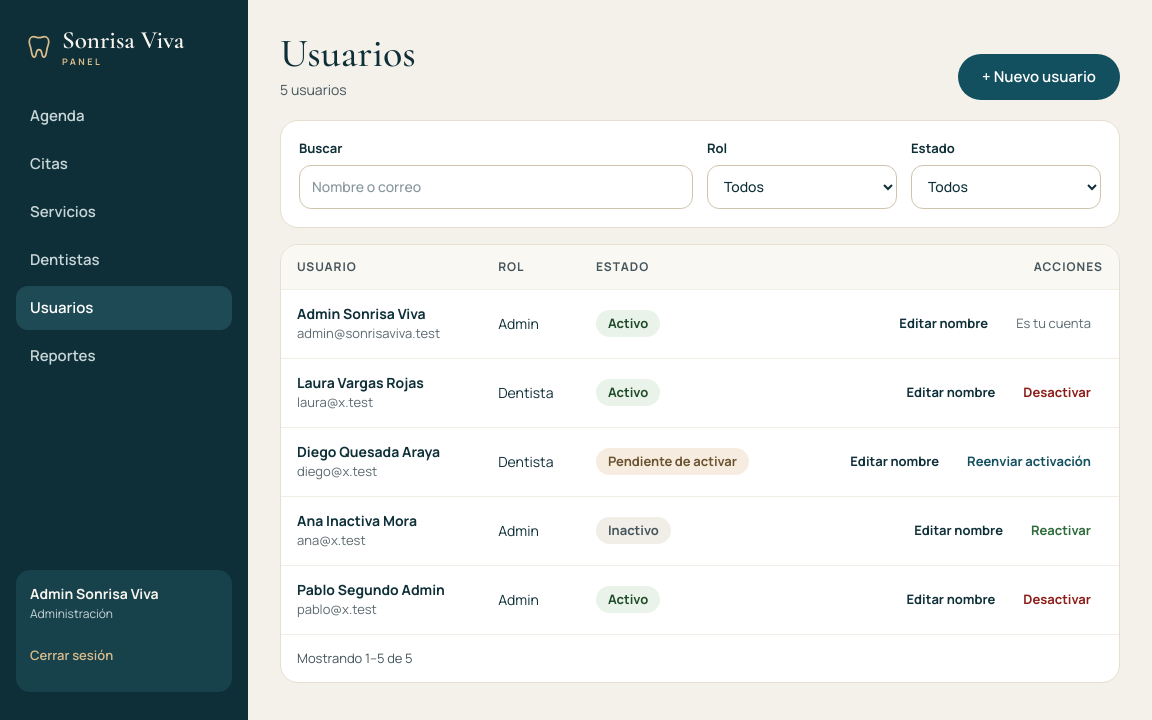
Test case: Usuarios › desactivar dentista con citas futuras avisa y enlaza a esas citas
Click the button with aria-label "Desactivar a Laura Vargas Rojas".
click(1057, 392)  # box [1011,370,1103,414]
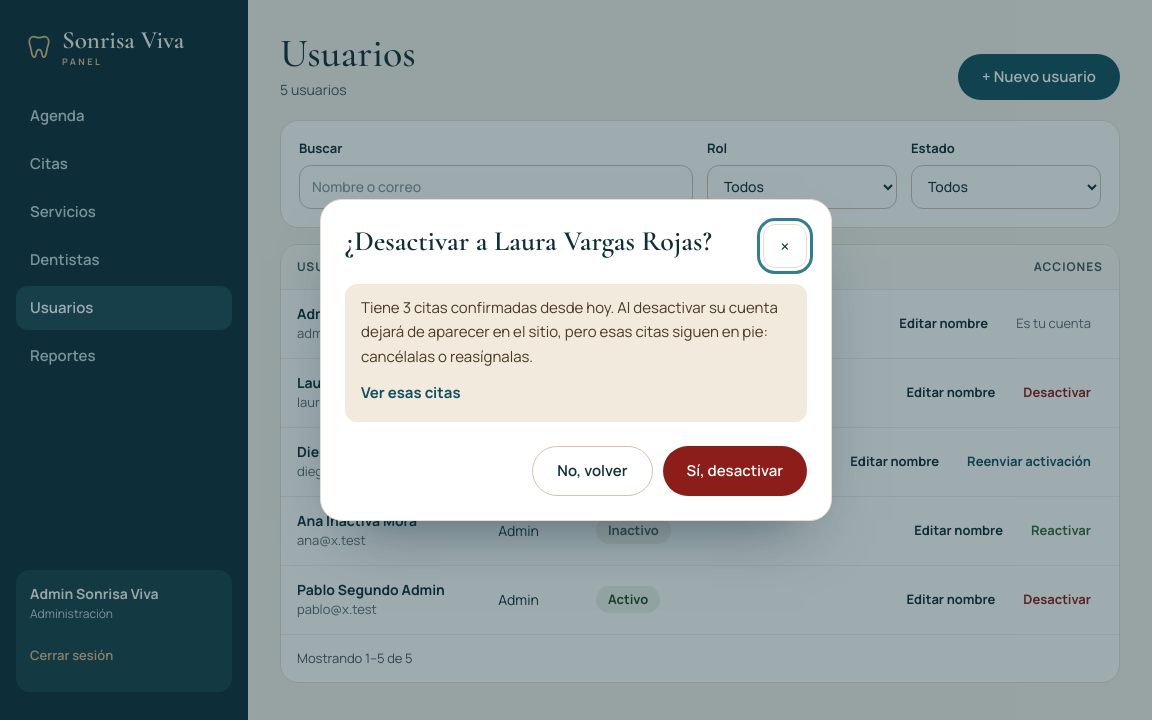
Now the text "Tiene 3 citas confirmadas desde hoy. Al desactivar su cuenta dejará de aparecer en el sitio, pero esas citas siguen en p" is shown, box [361,296,791,369]
